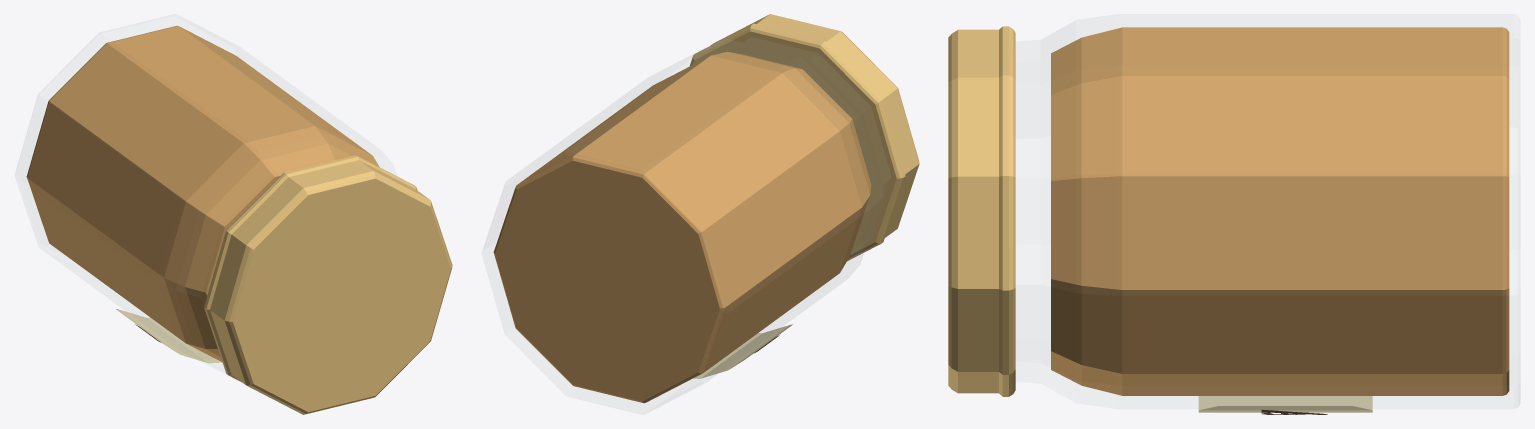
The model's file is honey_jar.glb.
3 renders of one model, left to right at view 1: azimuth 30°, elevation 25°; view 2: azimuth 150°, elevation 25°; view 3: azimuth 270°, elevation 25°, orthographic. The views are drawn at different scales.
Visible parts, largest first — view 1: honey_jar; view 2: honey_jar; view 3: honey_jar.
Boxes of the visible parts, bbox=[...] form: honey_jar: bbox=[15, 14, 452, 414]; honey_jar: bbox=[482, 14, 919, 414]; honey_jar: bbox=[948, 14, 1519, 414].
Bounding box in the file's own units: 0.071 × 0.07 × 0.102.
